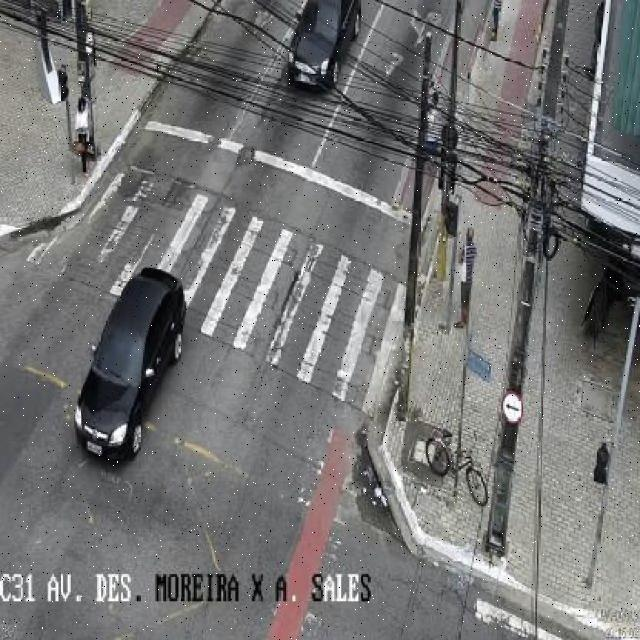Car: (72, 264, 192, 468), (282, 0, 358, 90)
